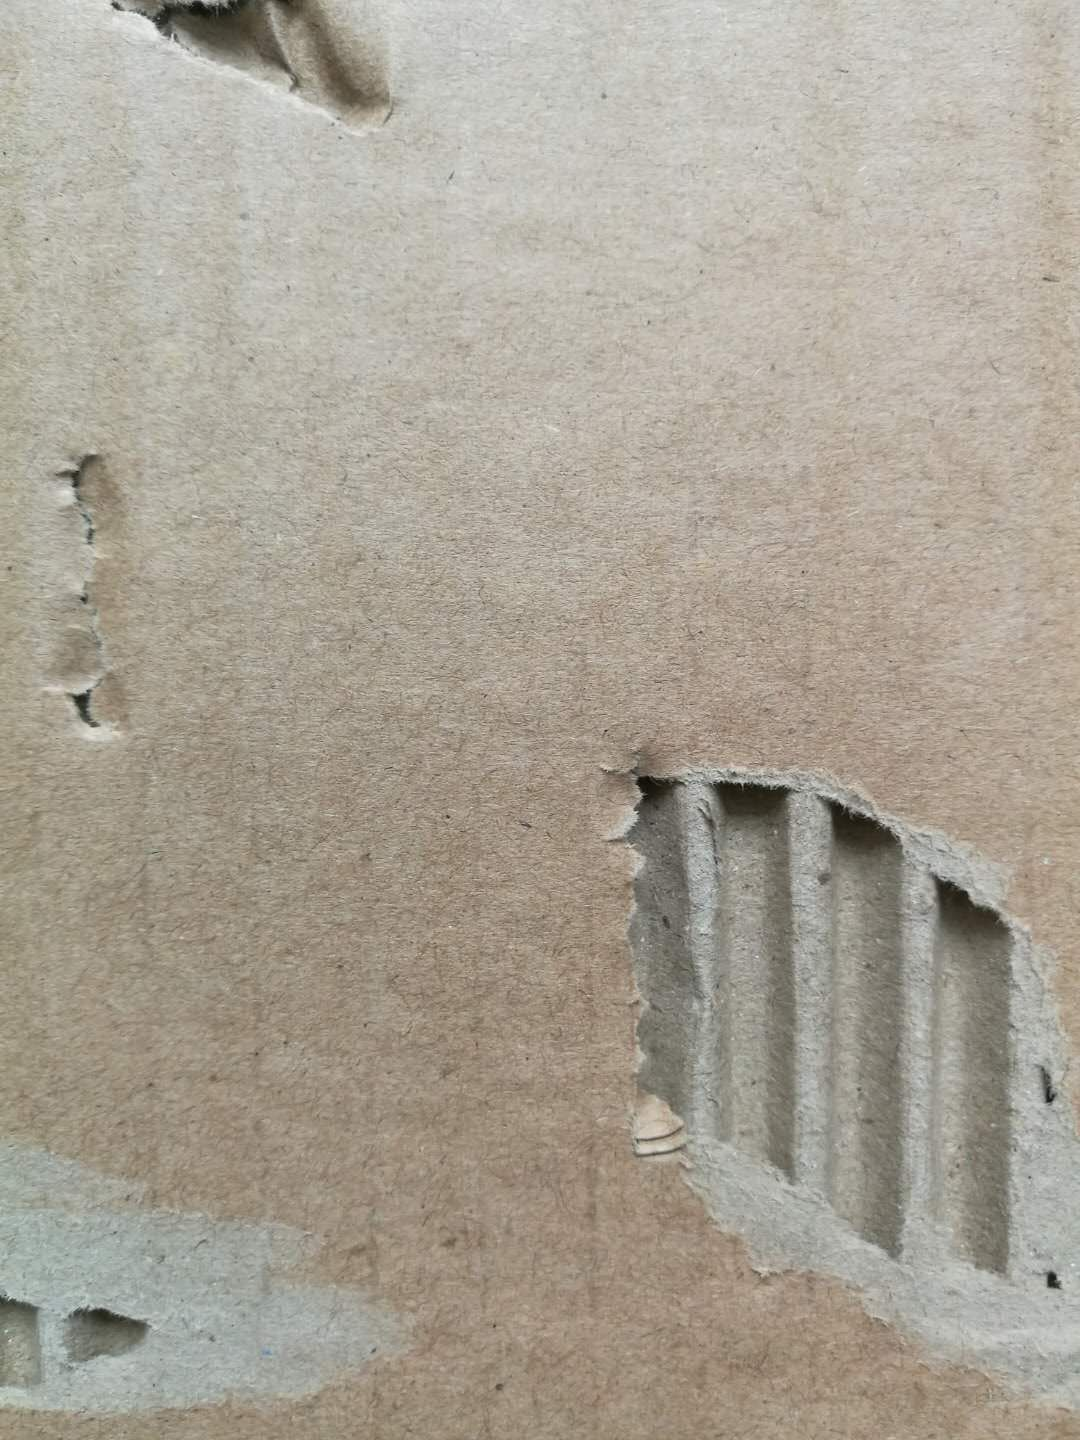defect: (562, 713, 1080, 1432), (2, 1107, 449, 1428), (19, 405, 179, 782), (71, 1, 427, 164)
